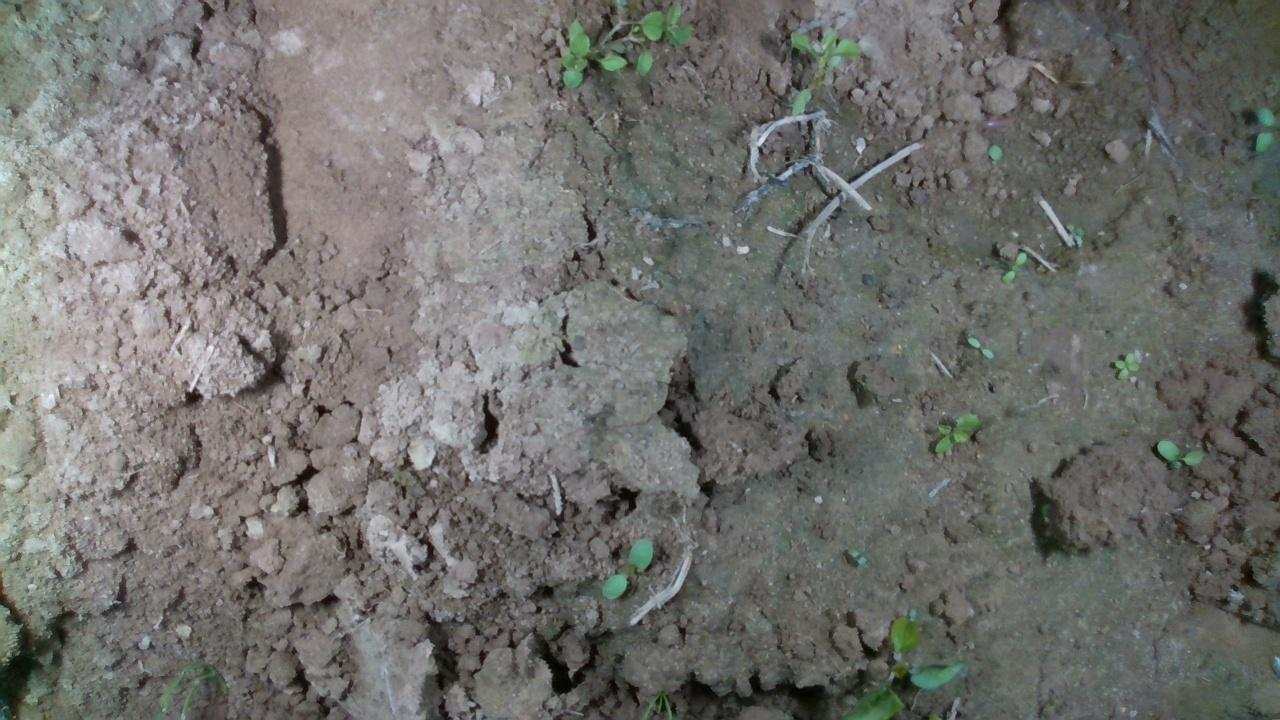weed: (599, 536, 654, 600), (932, 408, 978, 454), (1154, 437, 1204, 464), (1250, 103, 1275, 155), (1112, 349, 1140, 380), (964, 334, 994, 359)
